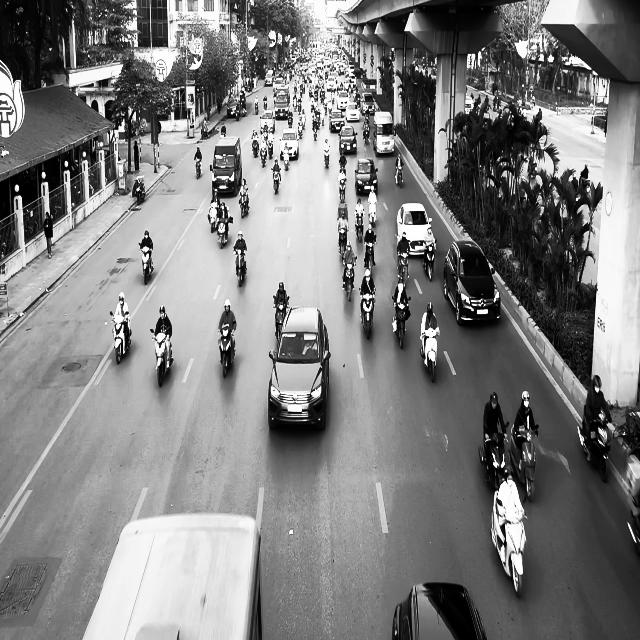car: (268, 305, 330, 431), (392, 582, 487, 640), (443, 239, 501, 326), (396, 202, 433, 257), (210, 136, 242, 196), (354, 158, 378, 195), (279, 128, 299, 160), (338, 126, 358, 154), (260, 109, 276, 133)
motorbike: (490, 489, 528, 598), (577, 410, 611, 482), (509, 422, 539, 502), (478, 422, 510, 489), (150, 326, 174, 387), (110, 310, 132, 364), (391, 295, 411, 349), (420, 328, 439, 382), (358, 286, 376, 339), (218, 324, 235, 378), (341, 254, 357, 302), (273, 294, 289, 340), (138, 243, 154, 284), (422, 240, 437, 282), (233, 246, 247, 287), (217, 216, 232, 249), (397, 251, 409, 288), (364, 238, 376, 273), (132, 175, 146, 204), (354, 211, 364, 242), (239, 188, 249, 218), (271, 166, 281, 194), (208, 204, 218, 232), (394, 162, 404, 188), (368, 200, 377, 226), (338, 177, 346, 203), (194, 158, 202, 180), (323, 147, 330, 168)
